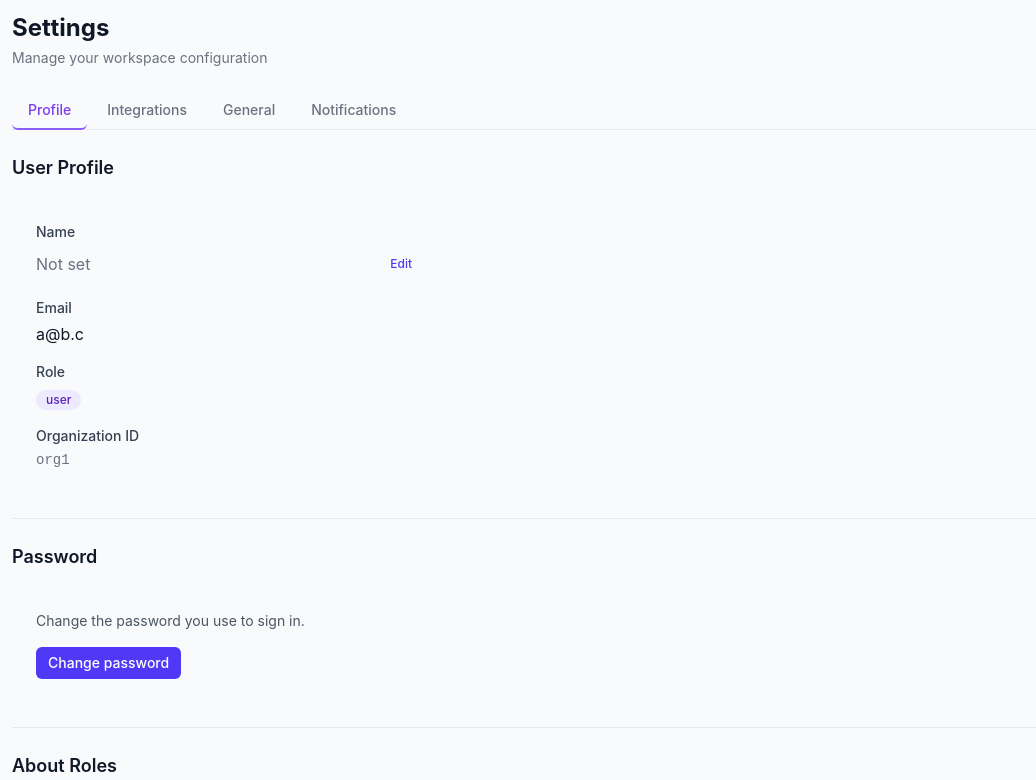
Settings → General tab › shows the real org name and drops the mockup fields
The image size is (1036, 780).
Click the button "General" at point(249, 111), box [207,92,291,130]
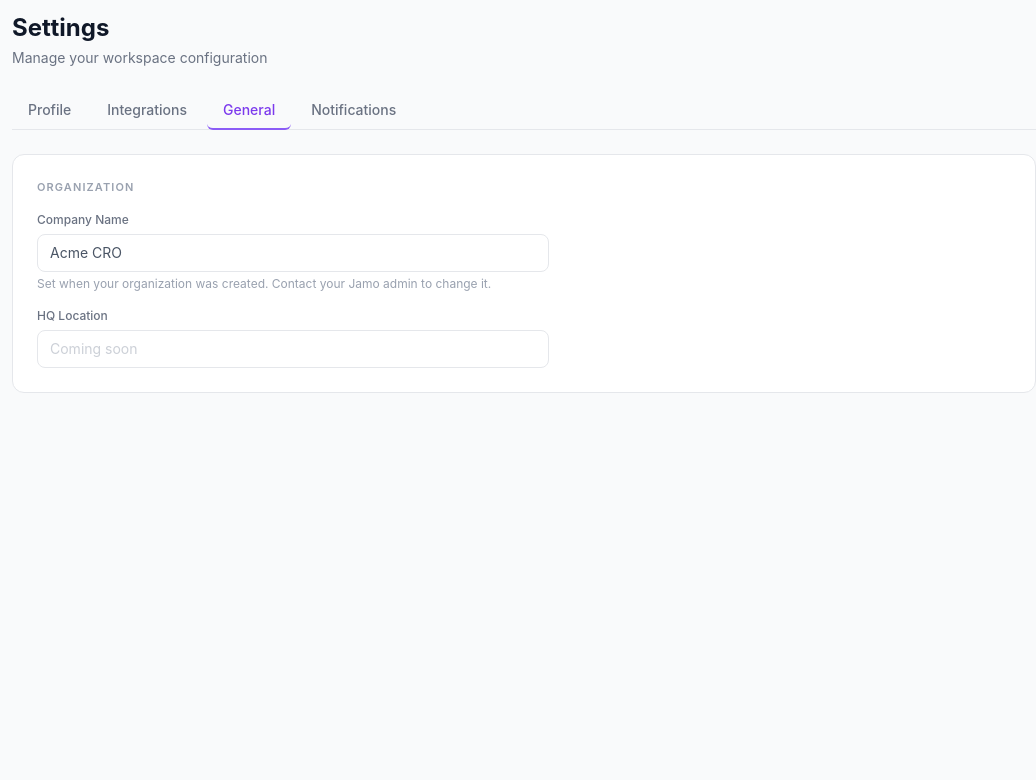
Expected: the field showing "Acme CRO" is disabled, [37,234,549,272]
